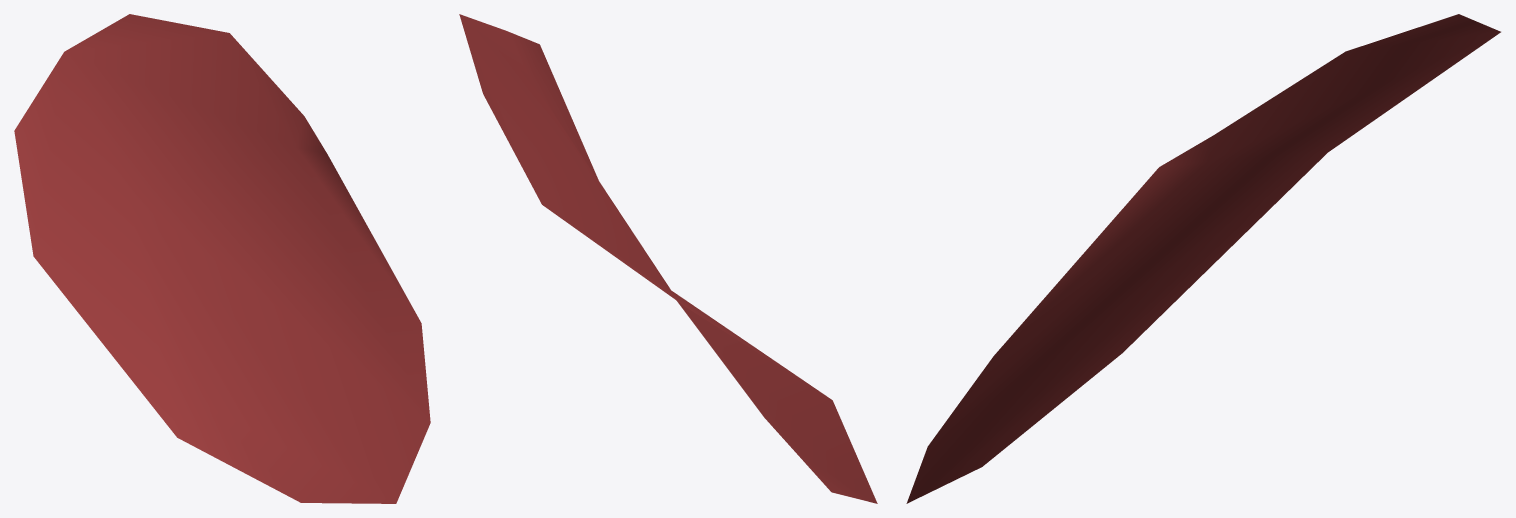
The model's file is extensor-digitorum-e7l.glb.
3 views of the same model, side by side, from view 1: azimuth 30°, elevation 25°; view 2: azimuth 150°, elevation 25°; view 3: azimuth 270°, elevation 25° (orthographic). The views are drawn at different scales.
Parts seen in each view (by area): view 1: Extensor digitorum.e7l; view 2: Extensor digitorum.e7l; view 3: Extensor digitorum.e7l.
Boxes of the visible parts, x1,y1,x2,y2 form: Extensor digitorum.e7l: [14, 14, 430, 503]; Extensor digitorum.e7l: [459, 14, 877, 503]; Extensor digitorum.e7l: [906, 14, 1500, 503].
Size of the model in its own units: 0.00426 by 0.00554 by 0.00649.
